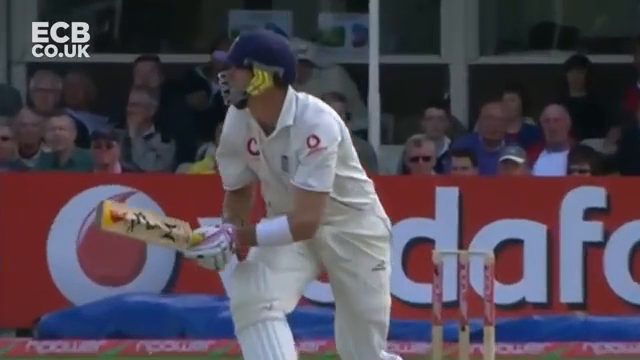batsman: (178, 30, 406, 359)
